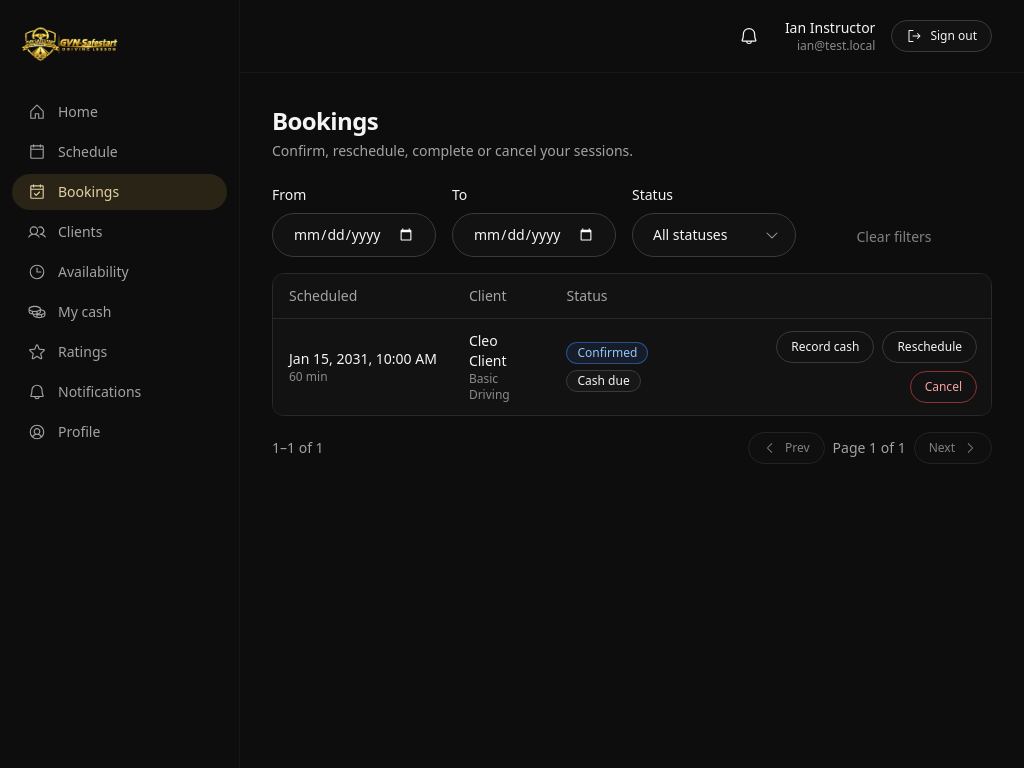
Test: record cash › prefills the lesson price and shows the OR number the system issued
What coordinates should you click on to do the following:
click the button with aria-label "Record cash for Cleo Client"
I would click on:
 (825, 347)
Its box is [776,331,874,363].
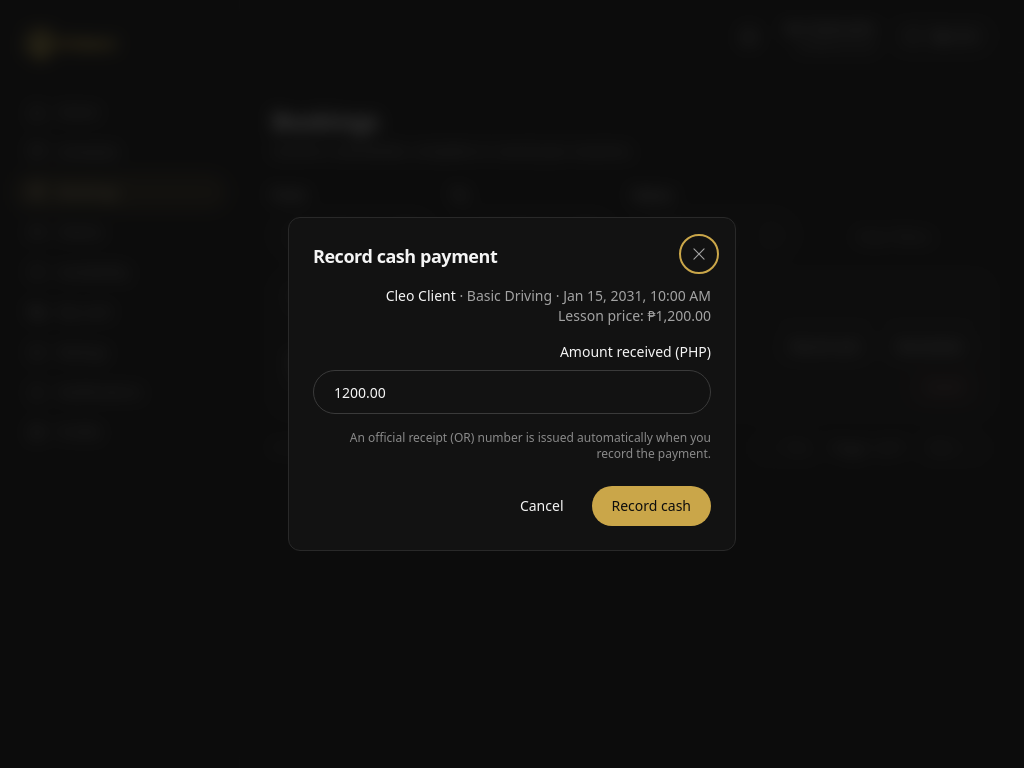
Result: the field labelled "Amount received (PHP)" holds "1200.00" at [313,370,711,414]
What coordinates should you click on to do the following:
click the button "Record cash"
I would click on:
 (651, 506)
Its box is [592,486,711,526].
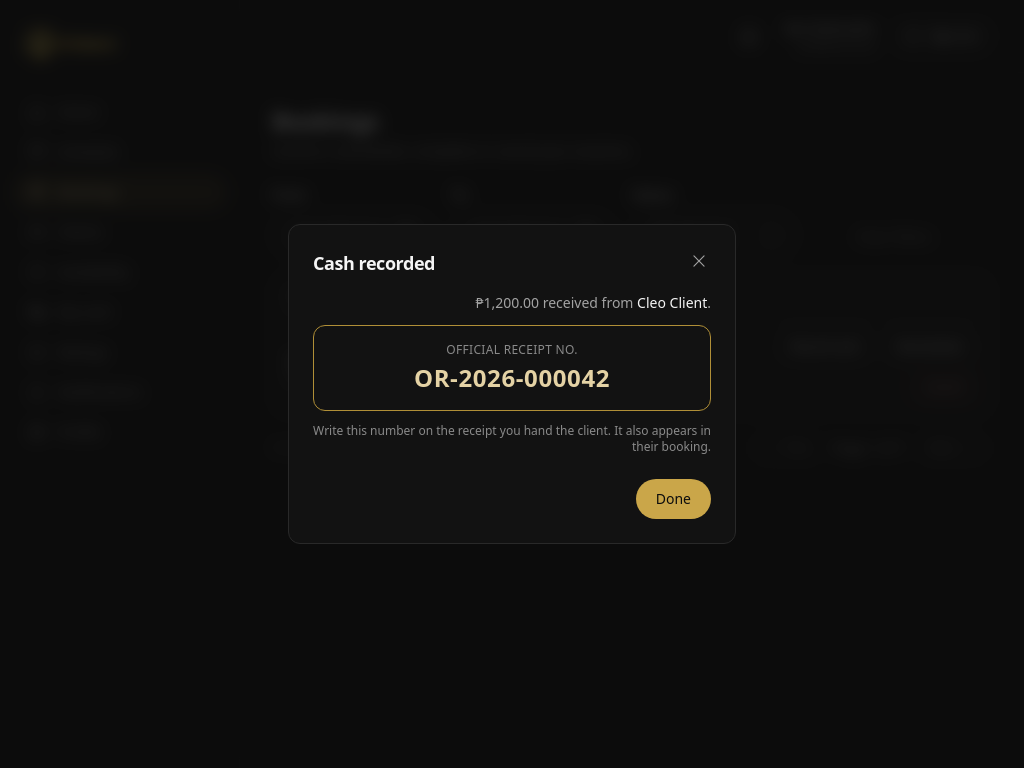
Result: the text "OR-2026-000042" is shown at [414,361,610,394]
What coordinates should you click on to do the following:
click the button "Done"
I would click on:
 (673, 499)
Its box is [636,479,711,519].
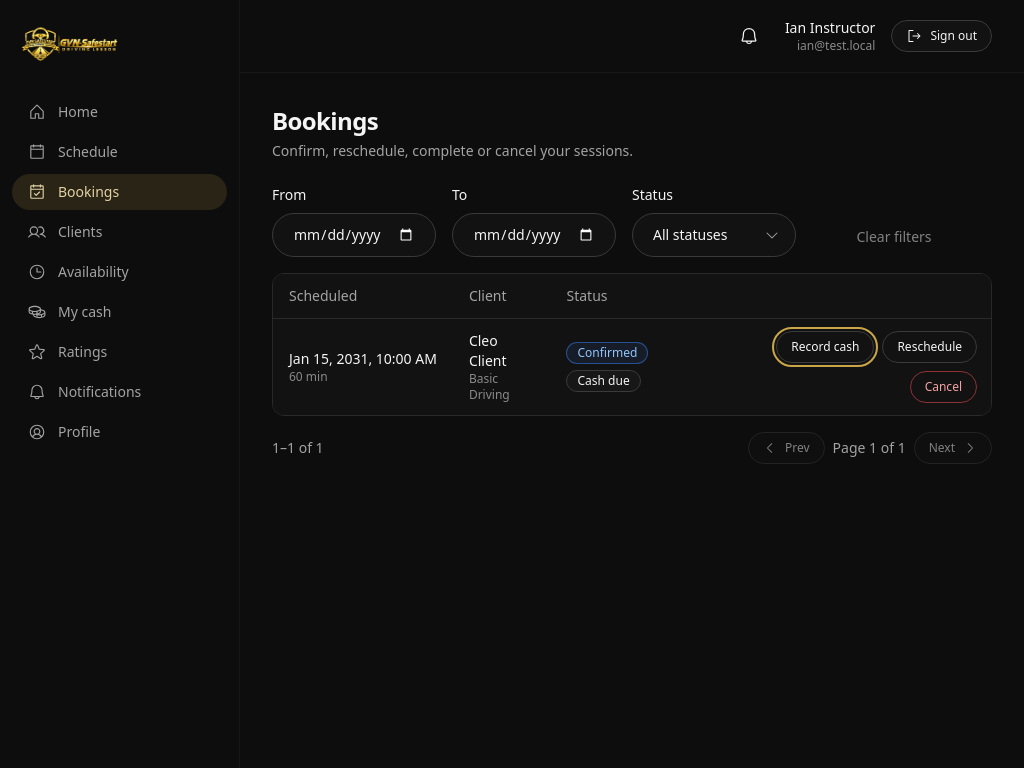
Result: the dialog is gone
